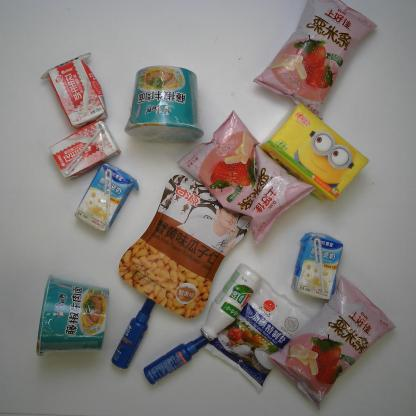Dried Fruit: (118, 174, 253, 320)
Instant Noodles: (124, 65, 206, 145), (34, 274, 110, 356)
Milk: (40, 50, 108, 131), (199, 262, 263, 342), (75, 162, 141, 233), (47, 120, 122, 180), (290, 232, 344, 301)
Personal Hygiene: (110, 296, 157, 370), (143, 334, 209, 386)
Puffed Food: (176, 109, 317, 245), (266, 273, 397, 411), (252, 0, 378, 122)
Seasoner: (204, 276, 312, 394)
Tissue: (258, 100, 370, 204)
